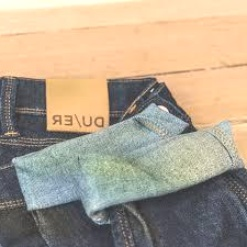earth: (89, 155, 141, 176)
